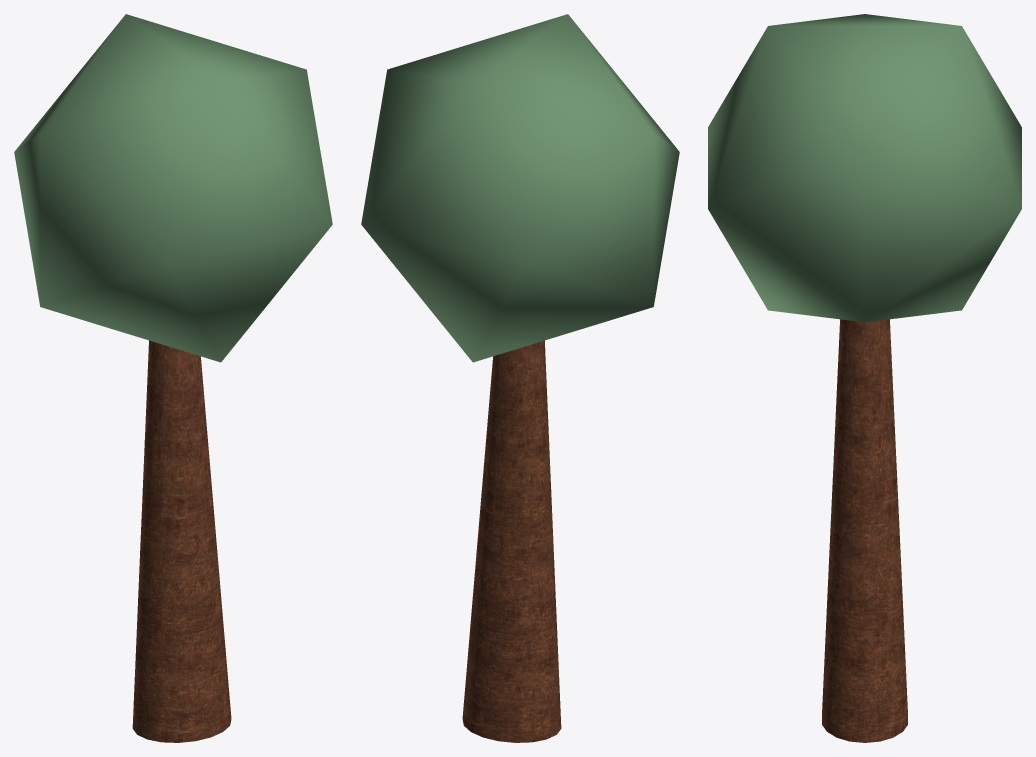
The model's file is Tree.glb.
3 views of the same model, side by side, from view 1: azimuth 30°, elevation 25°; view 2: azimuth 150°, elevation 25°; view 3: azimuth 270°, elevation 25° (orthographic).
Parts seen in each view (by area): view 1: Polyhedron, Cylinder - baked; view 2: Polyhedron, Cylinder - baked; view 3: Polyhedron, Cylinder - baked.
Part boxes in pixels (x1=…): Polyhedron: x1=14, y1=14, x2=332, y2=362; Cylinder - baked: x1=132, y1=340, x2=231, y2=742; Polyhedron: x1=361, y1=14, x2=679, y2=362; Cylinder - baked: x1=462, y1=340, x2=561, y2=742; Polyhedron: x1=708, y1=14, x2=1021, y2=322; Cylinder - baked: x1=822, y1=319, x2=907, y2=742.
Size of the model in its own units: 1.25 by 3.02 by 1.25.
2 materials, 1 textured.
